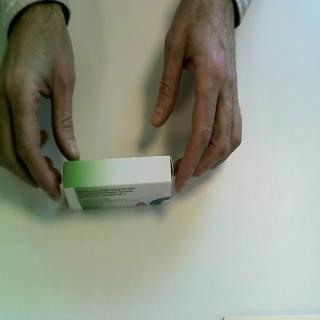oxynorm10mg: (62, 154, 176, 214)
